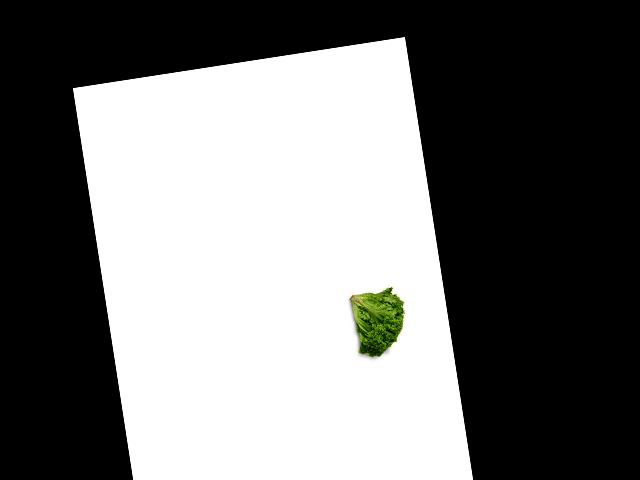lettuce: (343, 282, 414, 363)
